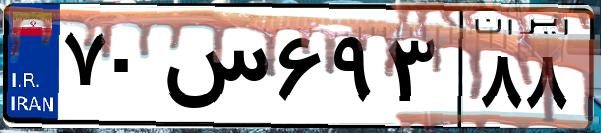0: (110, 28, 158, 98)
3: (385, 28, 445, 110)
6: (270, 28, 330, 110)
7: (57, 26, 110, 100)
8: (475, 38, 525, 113), (525, 38, 570, 115)
9: (330, 28, 385, 110)
س: (158, 20, 270, 120)
